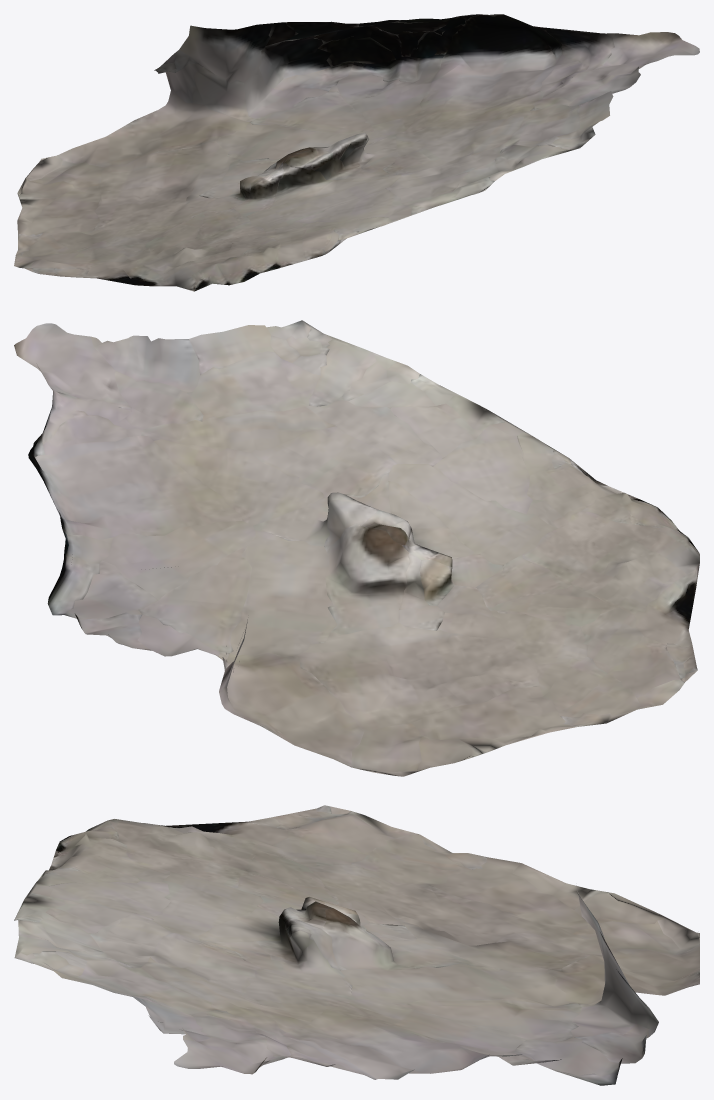
File: hall.glb
3 renders of one model, top to bottom at view 1: azimuth 30°, elevation 25°; view 2: azimuth 150°, elevation 25°; view 3: azimuth 270°, elevation 25°, orthographic. The views are drawn at different scales.
Bounding box in the file's own units: 1.78 × 0.3805 × 1.24.
Materials: 1 (1 with a texture image).
